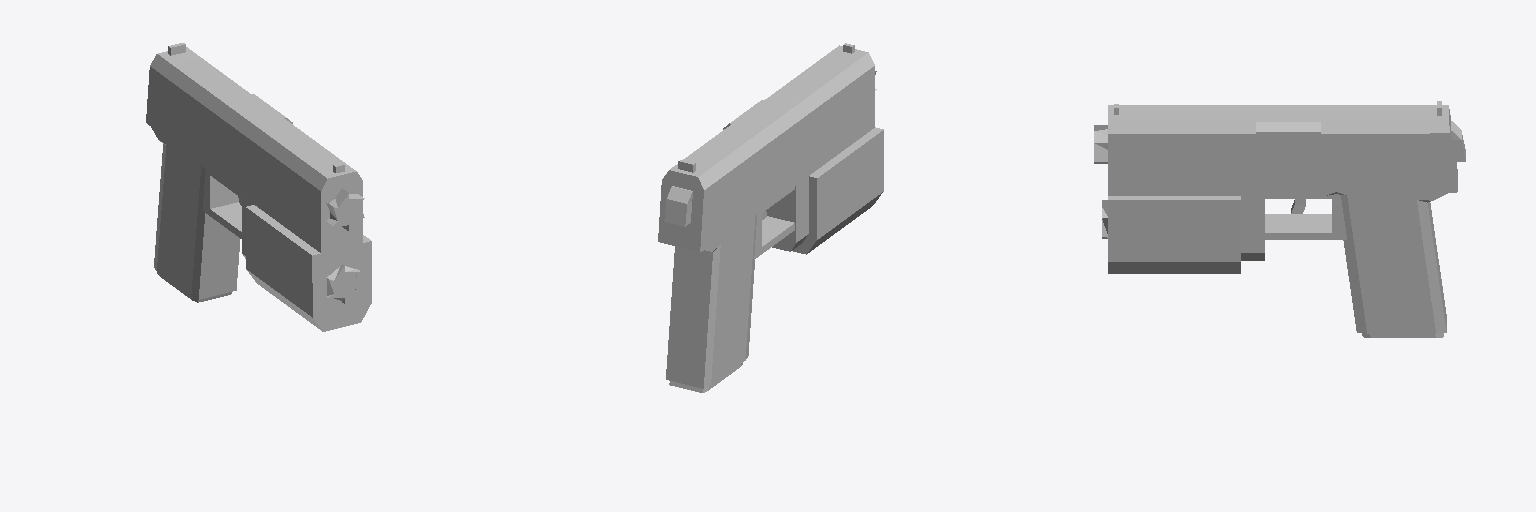
File: USP.obj
3 renders of one model, left to right at view 1: azimuth 30°, elevation 25°; view 2: azimuth 150°, elevation 25°; view 3: azimuth 270°, elevation 25°, orthographic.
Visible parts, largest first — view 1: MiConv.com__USP; view 2: MiConv.com__USP; view 3: MiConv.com__USP.
Boxes of the visible parts, x1,y1,x2,y2 form: MiConv.com__USP: [146, 43, 371, 331]; MiConv.com__USP: [658, 43, 883, 392]; MiConv.com__USP: [1094, 101, 1465, 337].
Size of the model in its own units: 113838 by 552992 by 612614.